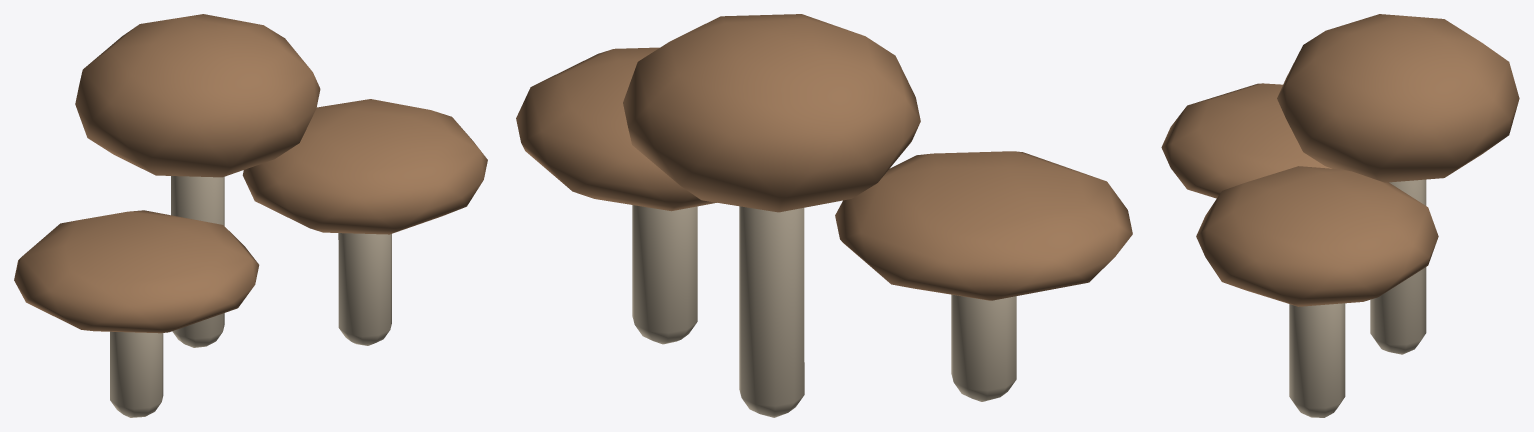
Rendered from org_decomposer.glb.
3 renders of one model, left to right at view 1: azimuth 30°, elevation 25°; view 2: azimuth 150°, elevation 25°; view 3: azimuth 270°, elevation 25°, orthographic. The views are drawn at different scales.
Visible parts, largest first — view 1: Foliage, Trunk; view 2: Foliage, Trunk; view 3: Foliage, Trunk.
Boxes of the visible parts, bbox=[...] form: Foliage: bbox=[14, 14, 487, 333]; Trunk: bbox=[110, 176, 391, 417]; Foliage: bbox=[516, 14, 1132, 300]; Trunk: bbox=[632, 205, 1016, 417]; Foliage: bbox=[1161, 14, 1519, 306]; Trunk: bbox=[1289, 179, 1426, 417].
Bounding box in the file's own units: 0.4623 × 0.3 × 0.3049.
